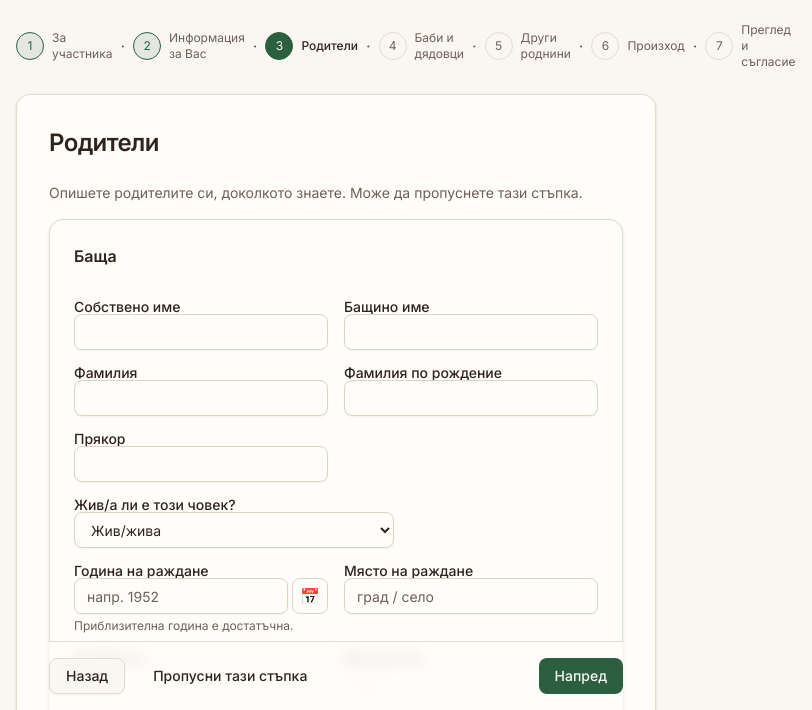
Test: year picker › picks a year from the calendar-like grid
The image size is (812, 710).
What coordinates should you click on to do the following:
click the button named "Избор на година: Година на раждане"
I would click on:
 (310, 596)
Its box is [292, 578, 328, 614].
(page scrolled)
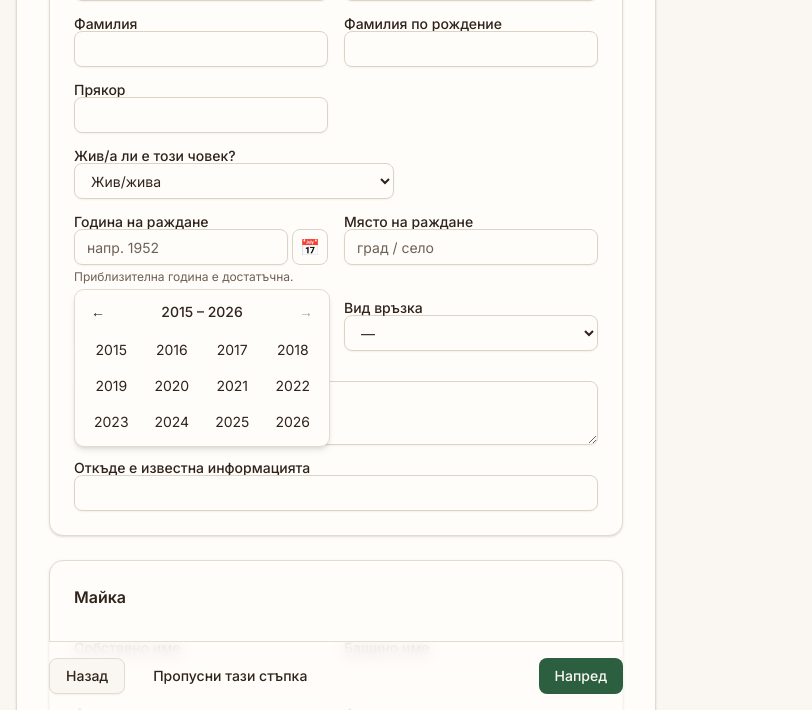
What coordinates should you click on to do the following:
click the button "2015"
I would click on:
 (111, 350)
Its box is [83, 334, 140, 366].
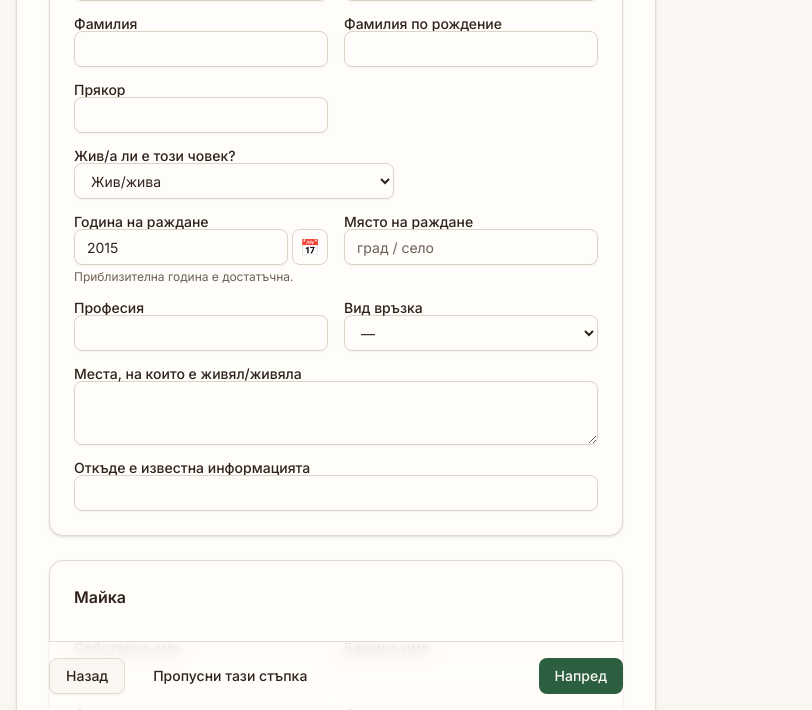
Check: the number field labelled "Година на раждане" holds "2015", box [74, 229, 288, 265]
